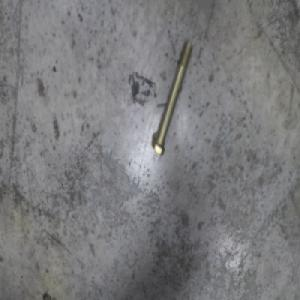Bolt: (152, 41, 196, 158)
